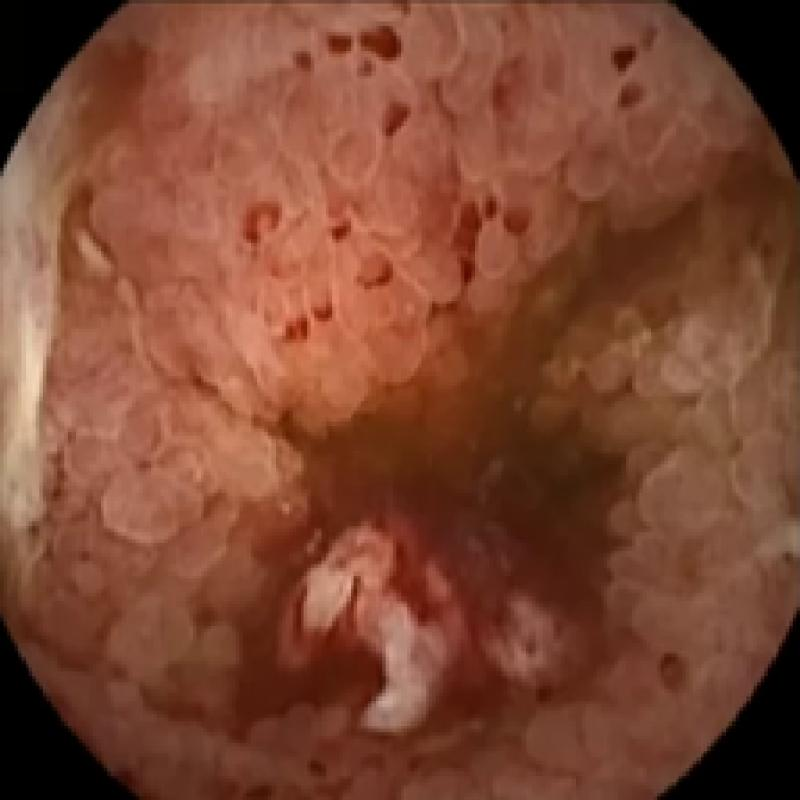bleeding: (223, 473, 627, 734), (244, 187, 538, 347), (275, 22, 425, 78)
